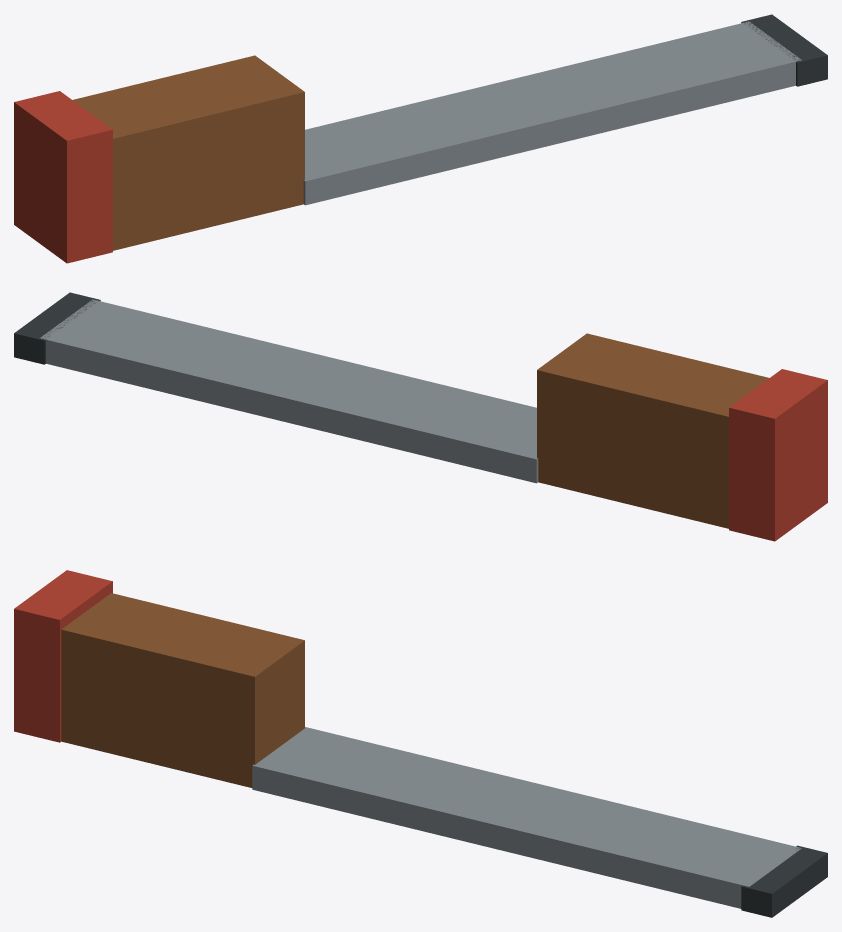
The model's file is hand_saw.glb.
3 views of the same model, one above another, from view 1: azimuth 30°, elevation 25°; view 2: azimuth 150°, elevation 25°; view 3: azimuth 330°, elevation 25° (orthographic).
Parts seen in each view (by area): view 1: hand_saw; view 2: hand_saw; view 3: hand_saw.
Boxes of the visible parts, left/top/right/bottom form: hand_saw: left=14, top=14, right=827, bottom=263; hand_saw: left=14, top=292, right=827, bottom=541; hand_saw: left=14, top=570, right=827, bottom=917.
Bounding box in the file's own units: 0.298 × 0.046 × 0.038.
